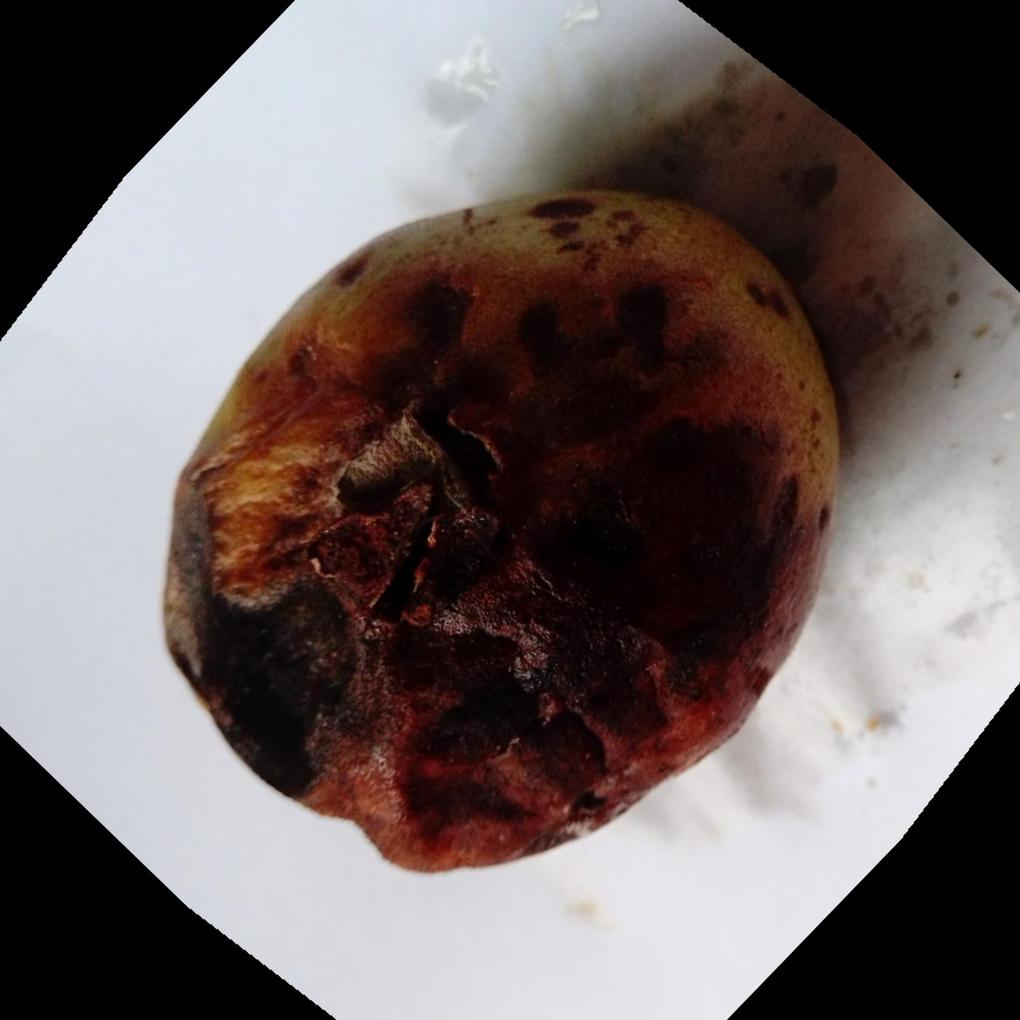FreshOrange: (157, 184, 841, 874)
